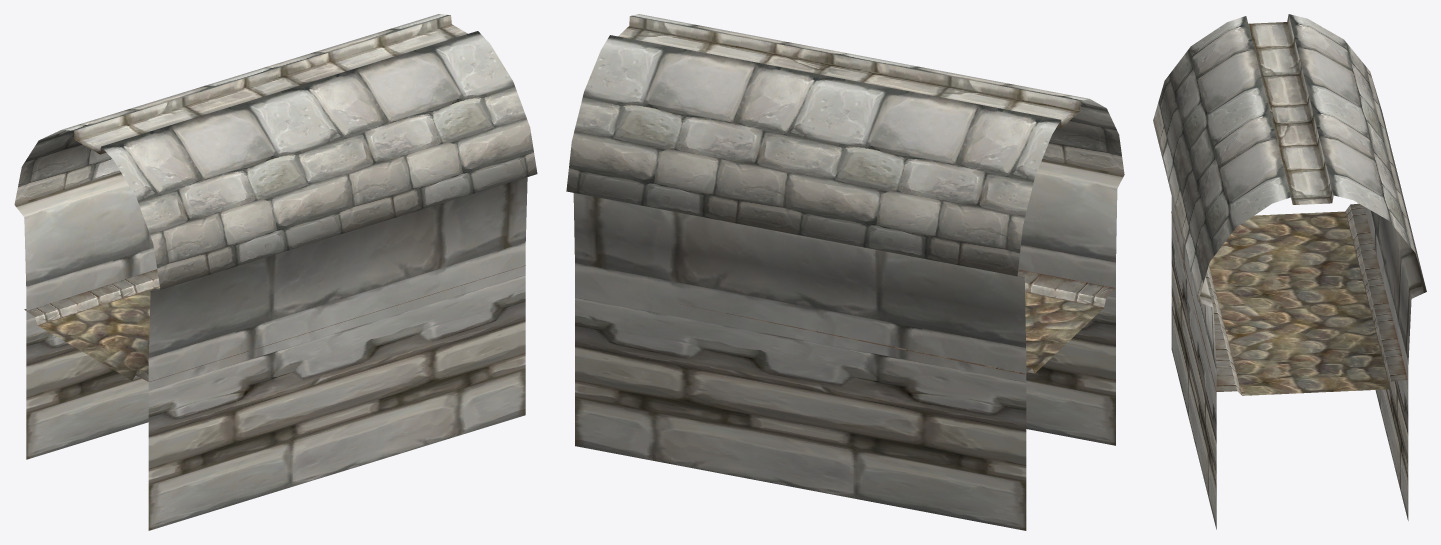
Rendered from stormwind_036.fbx.
3 views of the same model, side by side, from view 1: azimuth 30°, elevation 25°; view 2: azimuth 150°, elevation 25°; view 3: azimuth 270°, elevation 25° (orthographic). The views are drawn at different scales.
Parts seen in each view (by area): view 1: stormwind_036_11, stormwind_036_4, stormwind_036_5, stormwind_036_46, stormwind_036_12; view 2: stormwind_036_11, stormwind_036_4, stormwind_036_5, stormwind_036_46, stormwind_036_12; view 3: stormwind_036_4, stormwind_036_46, stormwind_036_11, stormwind_036_5, stormwind_036_12.
Boxes of the visible parts, x1,y1,x2,y2 form: stormwind_036_11: [15, 172, 527, 530]; stormwind_036_4: [14, 14, 537, 289]; stormwind_036_5: [74, 15, 467, 154]; stormwind_036_46: [38, 287, 159, 380]; stormwind_036_12: [24, 265, 525, 381]; stormwind_036_11: [573, 159, 1124, 530]; stormwind_036_4: [566, 14, 1124, 276]; stormwind_036_5: [618, 16, 1080, 128]; stormwind_036_46: [1025, 292, 1103, 373]; stormwind_036_12: [677, 269, 1115, 374]; stormwind_036_4: [1153, 14, 1425, 301]; stormwind_036_46: [1209, 211, 1389, 395]; stormwind_036_11: [1171, 196, 1426, 529]; stormwind_036_5: [1248, 15, 1333, 204]; stormwind_036_12: [1171, 203, 1407, 395].
Size of the model in its own units: 19.84 by 15.95 by 11.99.
